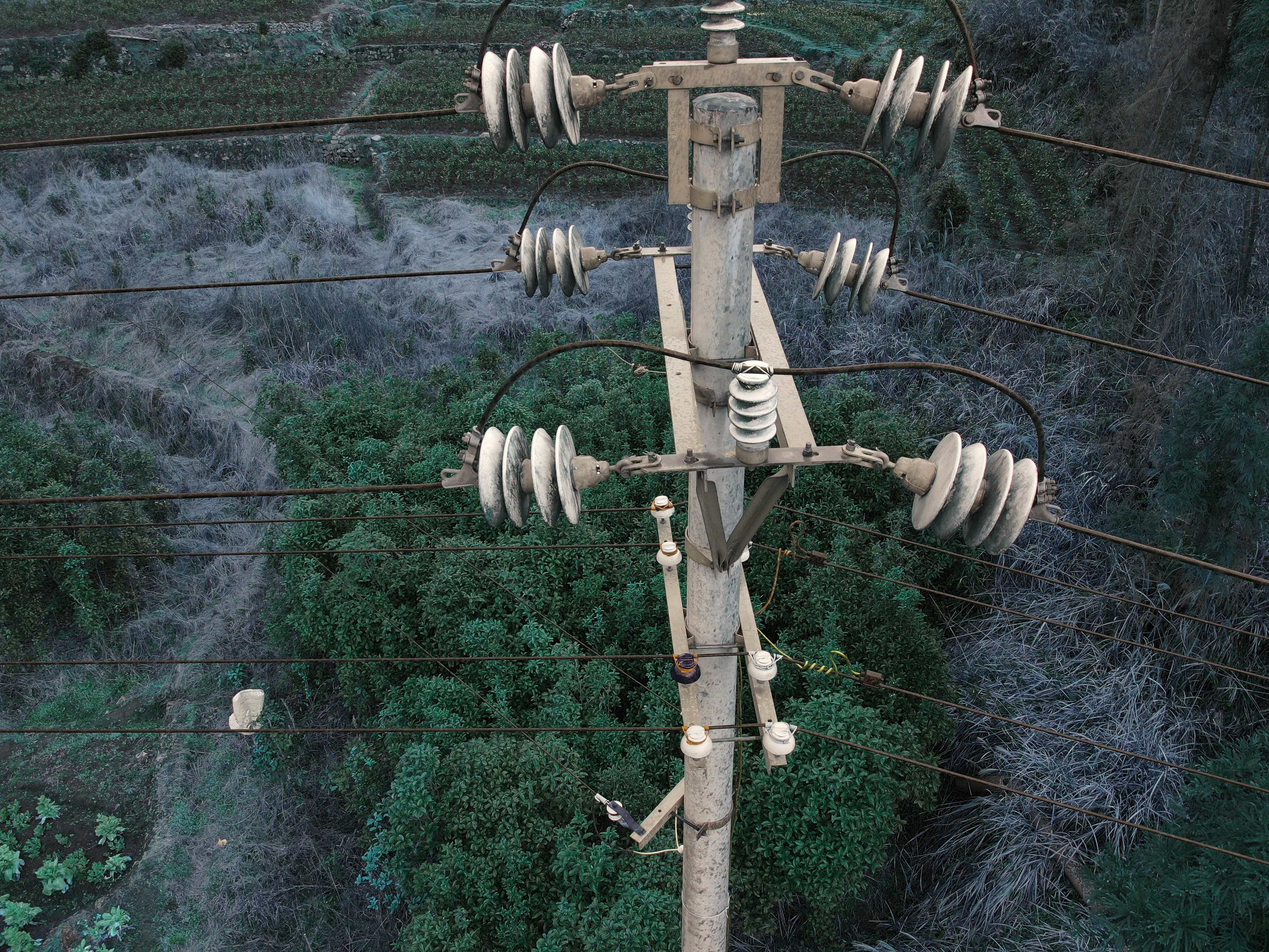severe_soiling_no_discharge_whole: (895, 431, 1038, 559), (837, 50, 975, 172), (472, 421, 609, 530), (477, 41, 604, 153), (795, 232, 893, 316), (518, 222, 606, 299), (724, 361, 782, 465), (697, 2, 746, 65)
